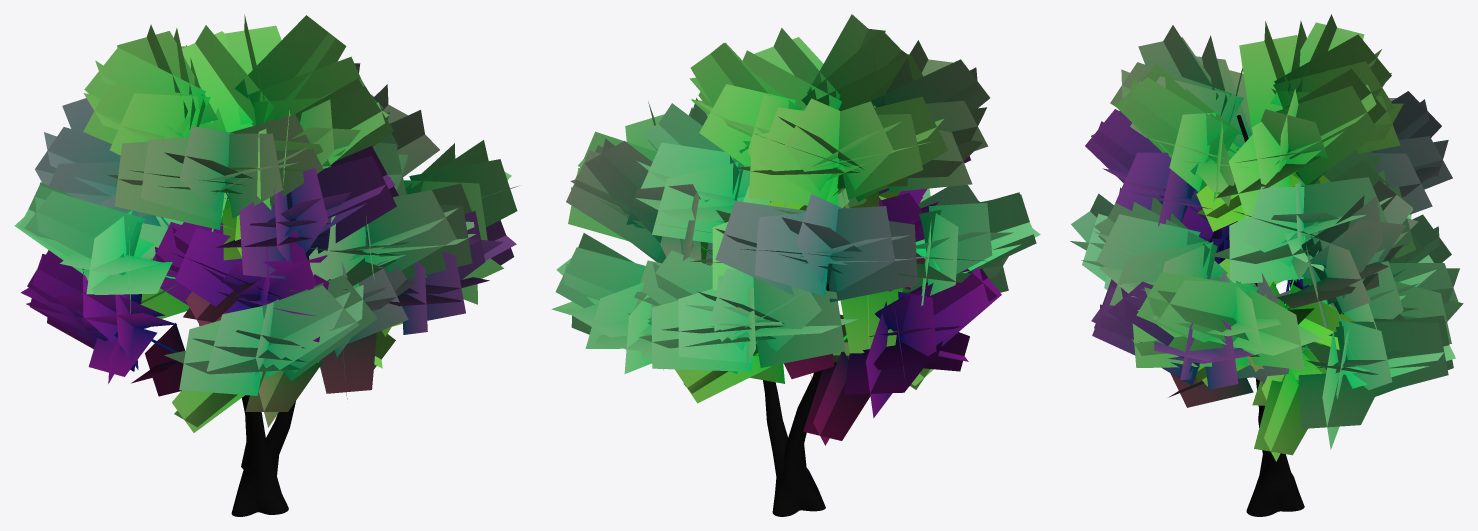
Rendered from Tree_3_6.fbx.
3 renders of one model, left to right at view 1: azimuth 30°, elevation 25°; view 2: azimuth 150°, elevation 25°; view 3: azimuth 270°, elevation 25°, orthographic. The views are drawn at different scales.
Parts seen in each view (by area): view 1: _6; view 2: _6; view 3: _6.
Part boxes in pixels (bbox=[...]): _6: bbox=[14, 14, 519, 516]; _6: bbox=[551, 14, 1040, 516]; _6: bbox=[1070, 14, 1463, 516].
Bounding box in the file's own units: 2182 × 2151 × 1723.
